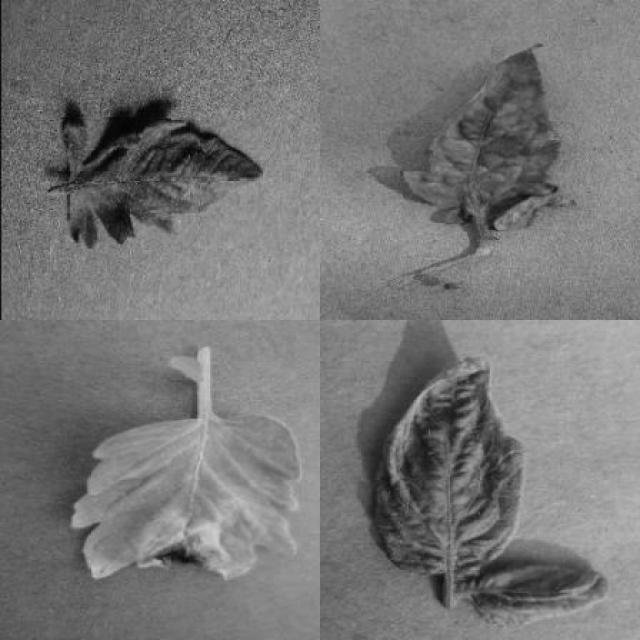Late Blight: (68, 414, 302, 582)
Leaf Mold: (403, 42, 578, 232)
Mosaic Virus: (59, 117, 264, 249)
Yellow Leaf Curl Virus: (374, 358, 526, 575), (475, 559, 608, 624)
